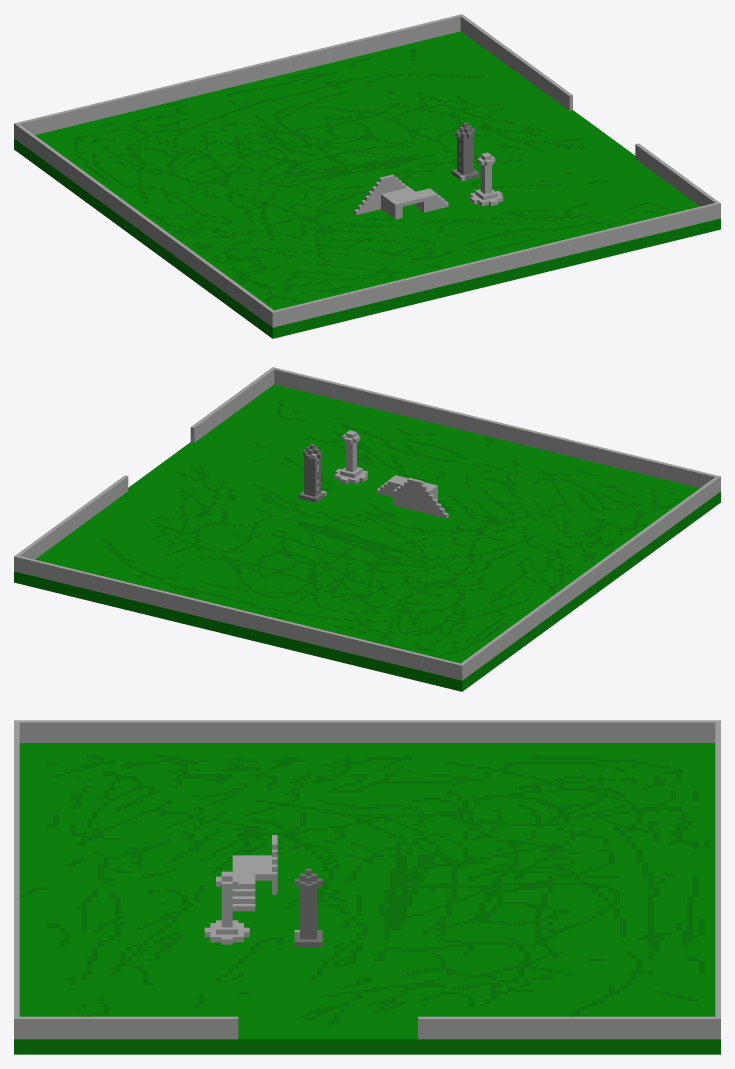
Rendered from Wayholt-0.obj.
3 views of the same model, one above another, from view 1: azimuth 30°, elevation 25°; view 2: azimuth 150°, elevation 25°; view 3: azimuth 270°, elevation 25° (orthographic). The views are drawn at different scales.
Visible parts, largest first — view 1: Wayholt-0; view 2: Wayholt-0; view 3: Wayholt-0.
Part boxes in pixels (bbox=[...]): Wayholt-0: bbox=[14, 14, 720, 338]; Wayholt-0: bbox=[14, 367, 720, 691]; Wayholt-0: bbox=[14, 720, 720, 1054].
Bounding box in the file's own units: 126 × 17 × 126.
Materials: 1 (1 with a texture image).
